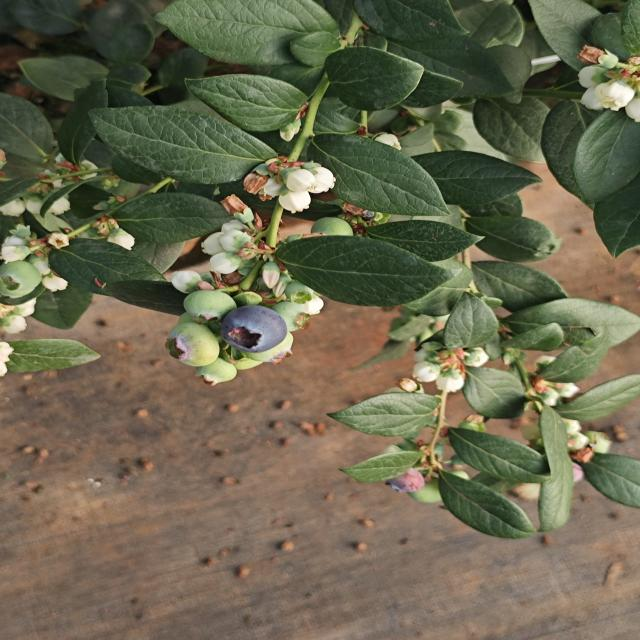ripe: (213, 300, 290, 352)
